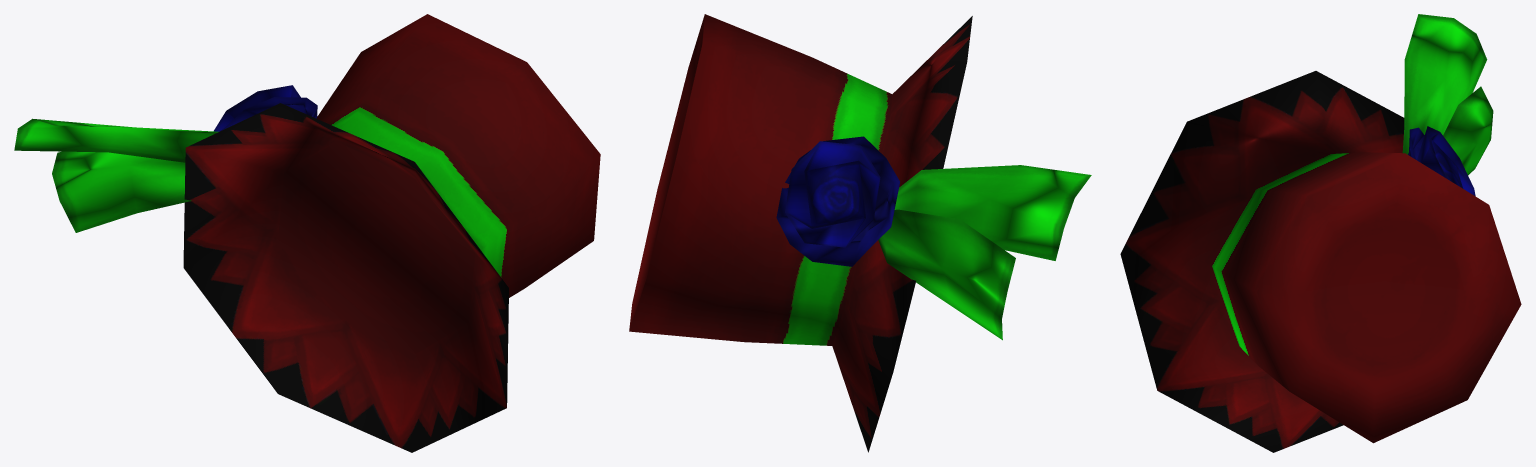
The picture shows the model from 3 angles, left to right: view 1: azimuth 30°, elevation 25°; view 2: azimuth 150°, elevation 25°; view 3: azimuth 270°, elevation 25°; orthographic projection. The views are drawn at different scales.
Visible parts, largest first — view 1: B1232; view 2: B1232; view 3: B1232.
Part boxes in pixels (x1,y1,x2,y2): B1232: (14, 14, 600, 452); B1232: (629, 14, 1091, 452); B1232: (1120, 14, 1521, 452).
Size of the model in its own units: 0.3028 by 0.2227 by 0.2388.
